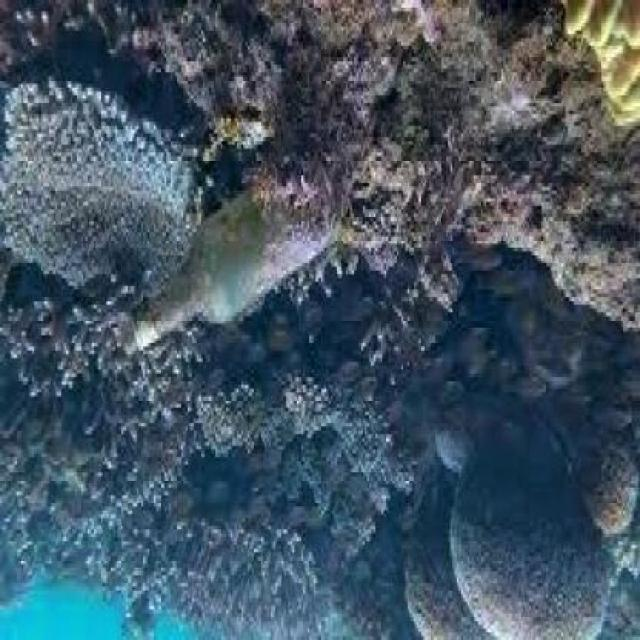gbottle: (126, 175, 348, 351)
